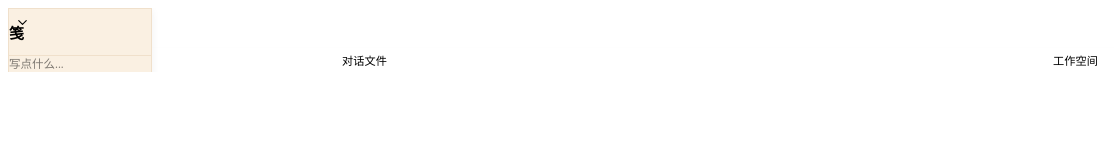
Test: RightWorkspacePanel › collapses and expands the Jian drawer without unmounting its editor state
Step 1. Click the button named "收起笺" → (22, 22), box [8, 8, 36, 36]
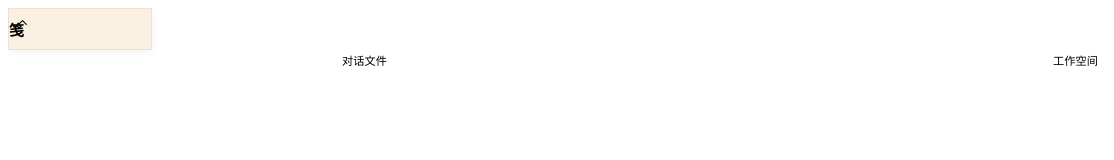
Result: the button named "展开笺" is collapsed
Step 2. Click the button named "展开笺" → (22, 22), box [8, 8, 36, 36]
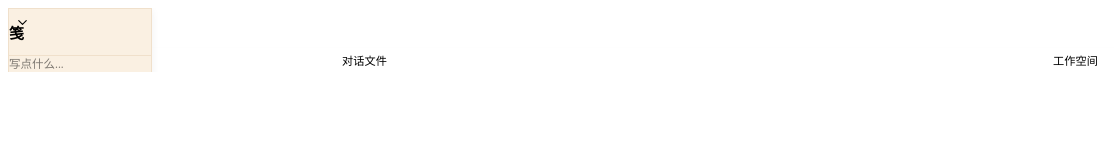
Result: the button named "收起笺" is expanded at [8, 8, 36, 36]
